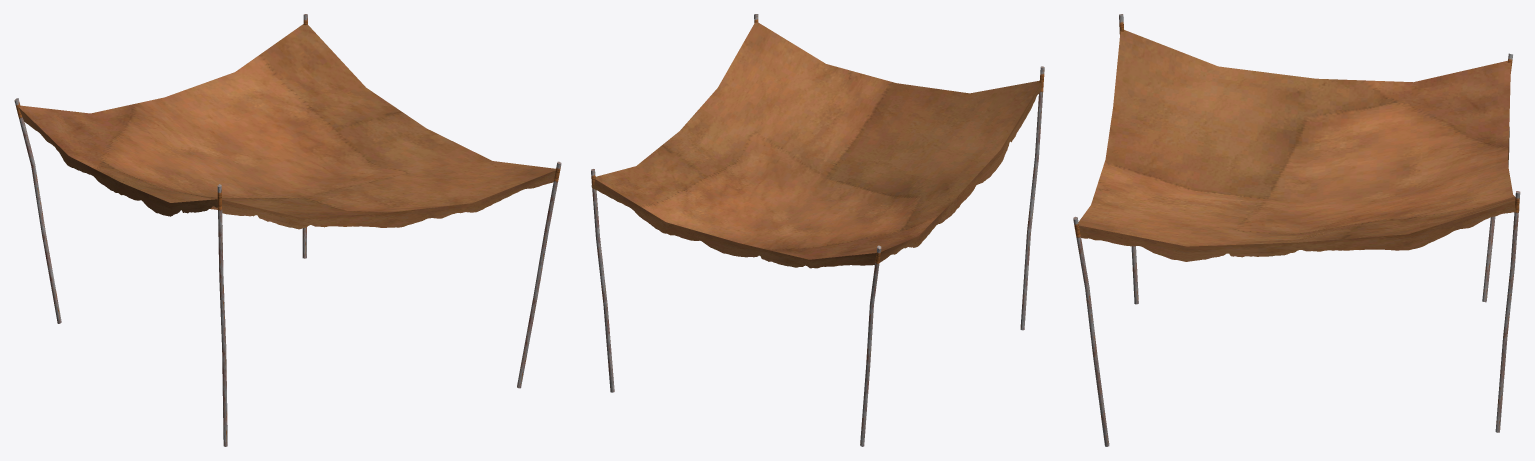
Rendered from thm_tato_jawa_tent_small_l0.fbx.
The picture shows the model from 3 angles, left to right: view 1: azimuth 30°, elevation 25°; view 2: azimuth 150°, elevation 25°; view 3: azimuth 270°, elevation 25°; orthographic projection. The views are drawn at different scales.
Visible parts, largest first — view 1: mesh_node; view 2: mesh_node; view 3: mesh_node.
Boxes of the visible parts, x1,y1,x2,y2 form: mesh_node: (14,14,561,446); mesh_node: (591,14,1044,446); mesh_node: (1073,14,1520,446).
Size of the model in its own units: 4.87 by 3.69 by 5.3.
